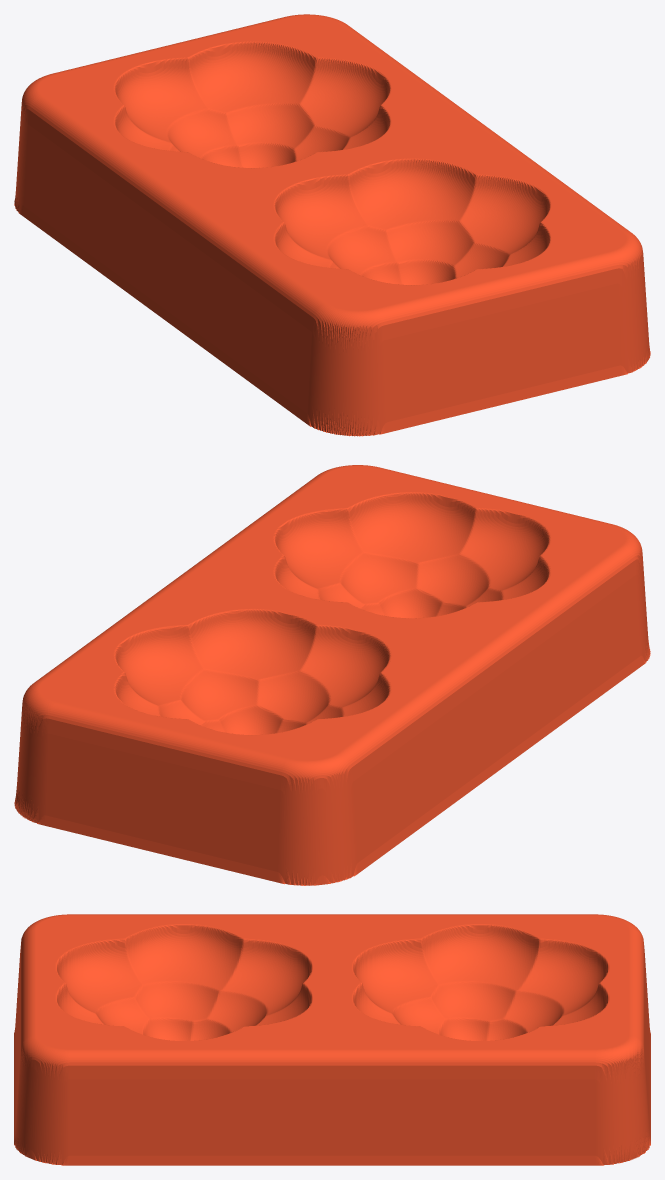
File: mold.glb
3 renders of one model, top to bottom at view 1: azimuth 30°, elevation 25°; view 2: azimuth 150°, elevation 25°; view 3: azimuth 270°, elevation 25°, orthographic. The views are drawn at different scales.
Visible parts, largest first — view 1: geometry_0; view 2: geometry_0; view 3: geometry_0.
Part boxes in pixels (x1=…): geometry_0: x1=14, y1=14, x2=650, y2=436; geometry_0: x1=14, y1=465, x2=650, y2=885; geometry_0: x1=14, y1=914, x2=650, y2=1165.
Bounding box in the file's own units: 0.0586 × 0.0192 × 0.1036.
